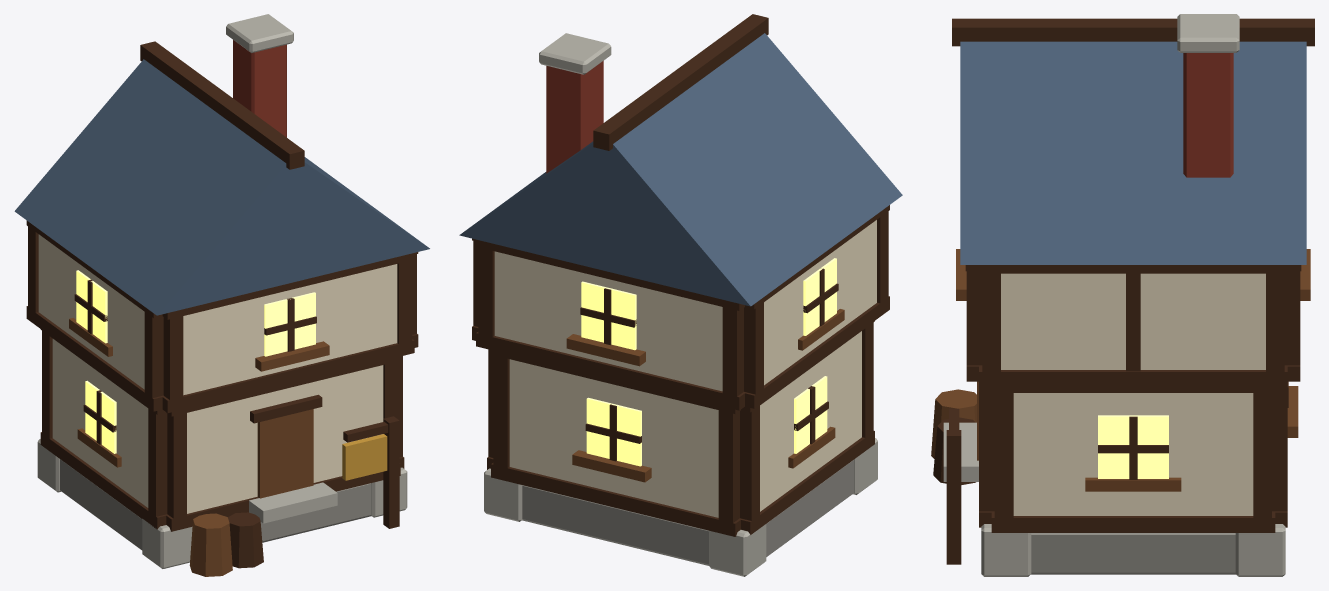
Rendered from tavern.glb.
3 views of the same model, side by side, from view 1: azimuth 30°, elevation 25°; view 2: azimuth 150°, elevation 25°; view 3: azimuth 270°, elevation 25° (orthographic). The views are drawn at different scales.
Visible parts, largest first — view 1: roof_body, wall_plaster.004, wall_plaster, wall_plaster.002, wall_plaster.006, foundation_core, door_leaf, roof_ridge, chimney_shaft, beam_bot.004, barrel_1, post (+29 smaller); view 2: roof_body, wall_plaster.001, wall_plaster.005, foundation_core, wall_plaster.002, wall_plaster.006, roof_ridge, chimney_shaft, beam_bot.005, beam_bot.001, post.003, win_pane.004 (+24 smaller); view 3: roof_body, wall_plaster.007, wall_plaster.003, foundation_core, roof_ridge, chimney_shaft, beam_bot.007, beam_bot.003, win_pane.002, beam_top.007, post.007, post.006 (+19 smaller).
Boxes of the visible parts, x1,y1,x2,y2 form: roof_body: (14,59,429,315); wall_plaster.004: (183,264,397,395); wall_plaster: (187,365,383,513); wall_plaster.002: (52,339,148,507); wall_plaster.006: (38,234,144,389); foundation_core: (60,459,371,550); door_leaf: (257,409,313,498); roof_ridge: (140,41,304,169); chimney_shaft: (233,40,286,137); beam_bot.004: (162,339,414,412); barrel_1: (189,513,232,576); post: (167,409,186,530); roof_body: (459,33,902,306); wall_plaster.001: (509,359,718,517); wall_plaster.005: (494,251,722,391); foundation_core: (522,459,854,565); wall_plaster.002: (760,331,861,511); wall_plaster.006: (764,220,876,385); roof_ridge: (593,14,768,150); chimney_shaft: (546,61,603,173); beam_bot.005: (476,332,745,410); beam_bot.001: (491,463,740,536); post.003: (718,405,739,536); win_pane.004: (581,281,636,350); roof_body: (960,41,1306,264); wall_plaster.007: (1001,273,1265,369); wall_plaster.003: (1013,393,1253,515); foundation_core: (1031,533,1235,574); roof_ridge: (952,18,1314,46); chimney_shaft: (1183,53,1233,177); beam_bot.007: (979,366,1287,386); beam_bot.003: (991,512,1275,532); win_pane.002: (1098,415,1168,478); beam_top.007: (979,265,1287,273); post.007: (994,387,1013,529); post.006: (1253,387,1271,528).
Bounding box in the file's own units: 1.84 × 2.75 × 1.84.
